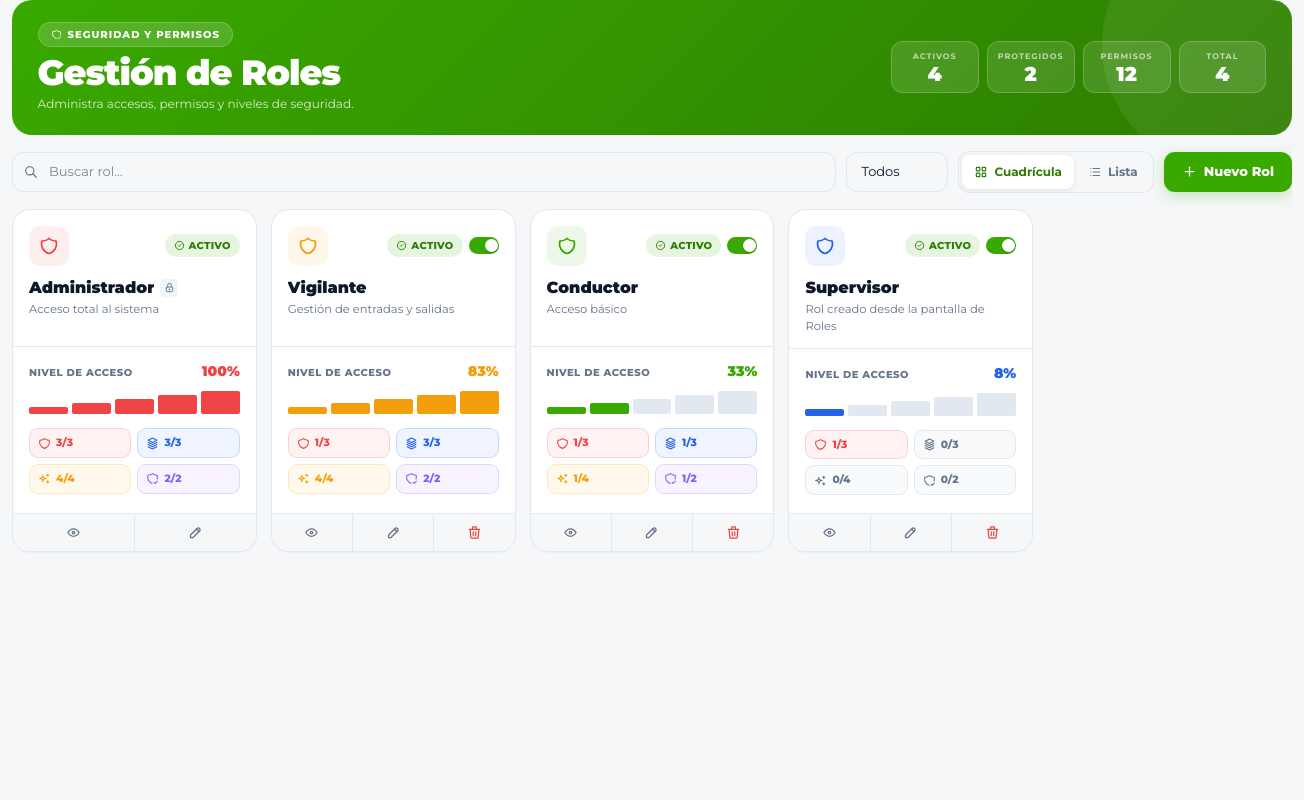
Scenario: Roles › se puede ver en lista, igual que Usuarios y Conductores
Expected: the heading "Administrador" is shown, [29,278,154,297]
Step 1. Click the button "Lista" → (1113, 172), box [1076,155,1150,189]
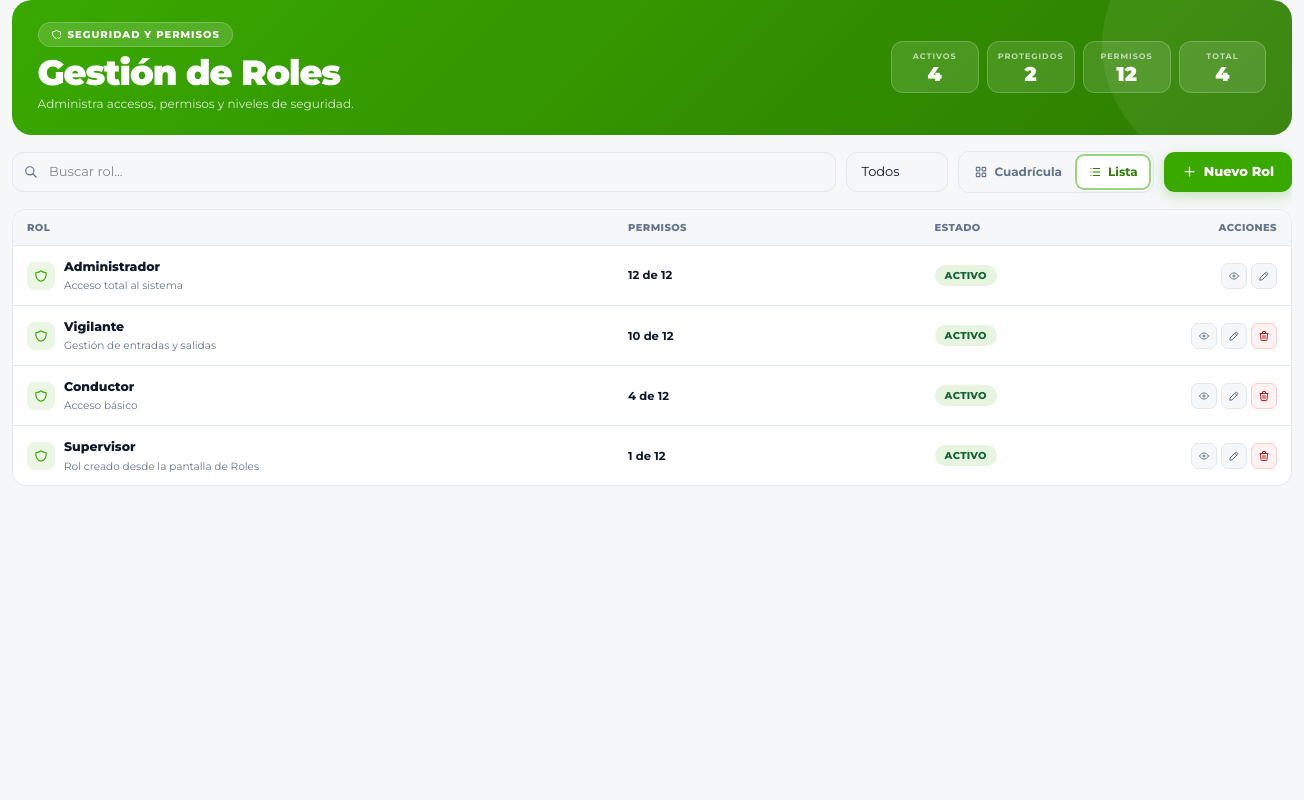
Expected: the element with class "data-list" is shown, [12,209,1292,486]
Expected: the button named "Ver detalle de Vigilante" is shown, [1191,323,1217,349]
Expected: the button named "Editar rol Vigilante" is shown, [1221,323,1247,349]
Note: Y se puede volver a tarjetas.
Step 2. Click the button "Cuadrícula" → (1018, 172), box [962,155,1074,189]
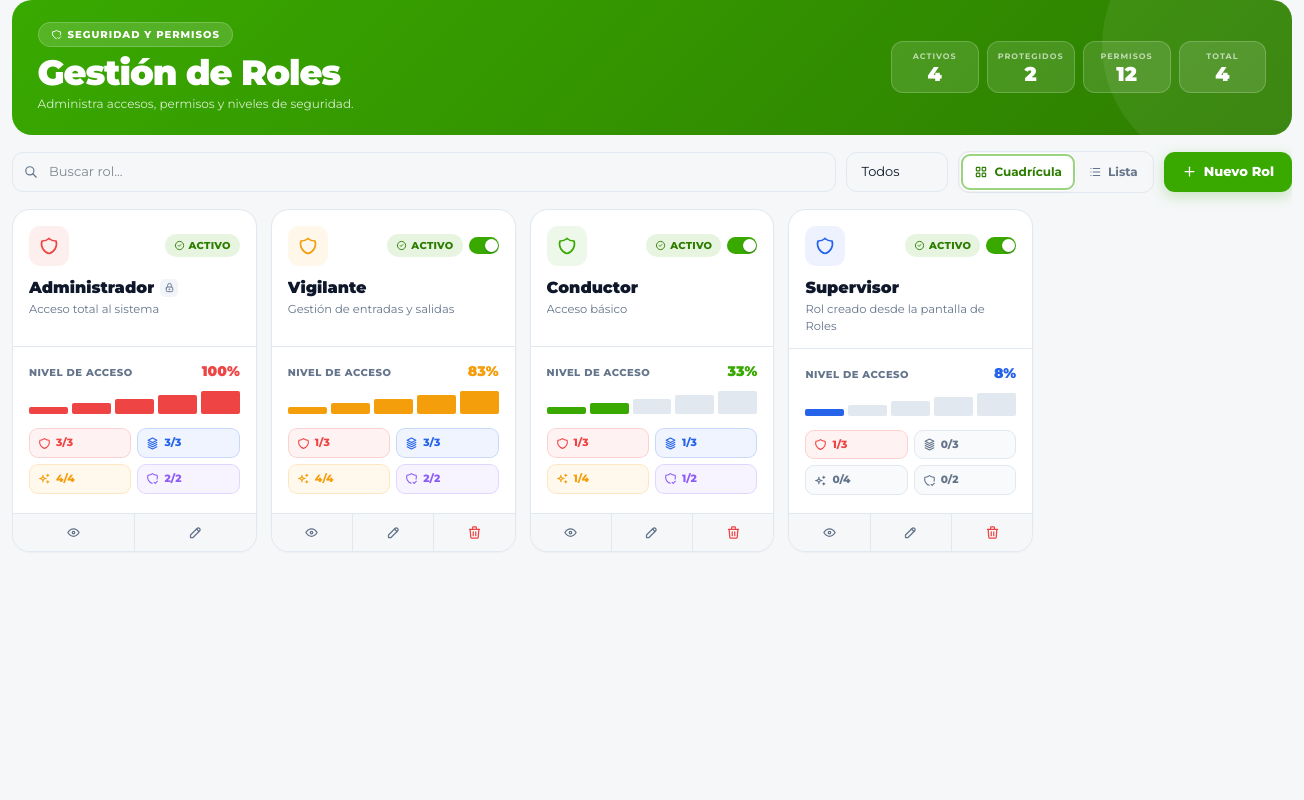
Expected: the element with class "data-list" is gone
